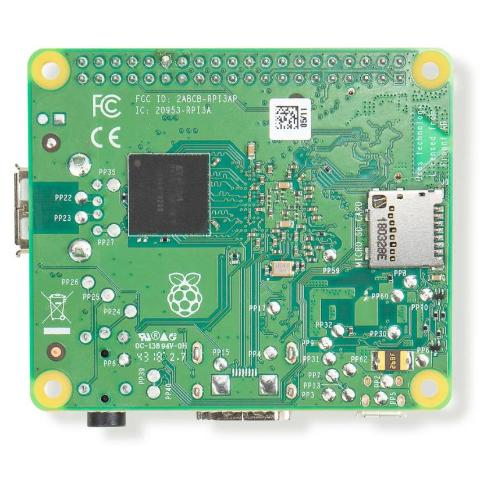Raspberry-Pi-3-Model-A-: (9, 36, 459, 434)
